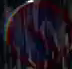No Stopping: (3, 1, 71, 68)
